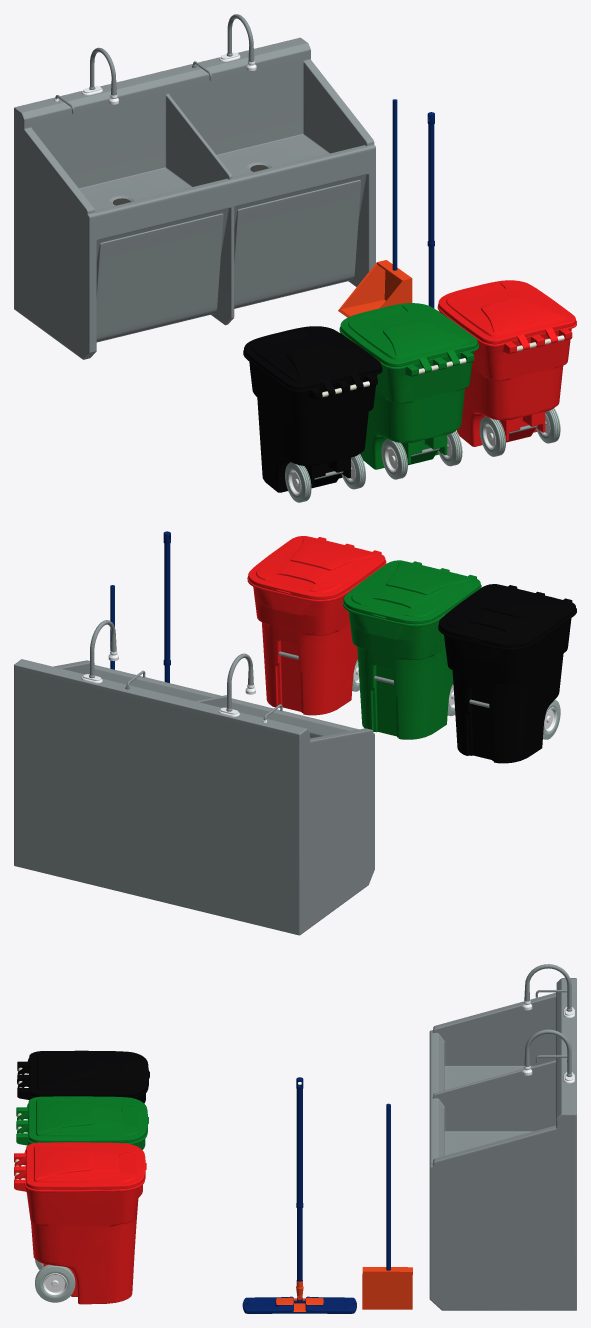
The model's file is AREA DE RESIDUOS .fbx.
The picture shows the model from 3 angles, top to bottom: view 1: azimuth 30°, elevation 25°; view 2: azimuth 150°, elevation 25°; view 3: azimuth 270°, elevation 25°; orthographic projection. The views are drawn at different scales.
Visible parts, largest first — view 1: body_mesh, front_container_001_mesh, front_container_002_mesh, trashcan_mesh.002, trashcan_mesh, trashcan_mesh.001, lid_mesh, lid_mesh.002, lid_mesh.001, imagetostl_mesh1, node_fd49b934_2c13_44a4_b932_a96bf93663f7_mesh0, wheel_001_mesh (+2 smaller); view 2: body_mesh, trashcan_mesh.002, trashcan_mesh, trashcan_mesh.001, lid_mesh.001, lid_mesh, lid_mesh.002, node_fd49b934_2c13_44a4_b932_a96bf93663f7_mesh0; view 3: body_mesh, trashcan_mesh, lid_mesh, lid_mesh.001, lid_mesh.002, node_fd49b934_2c13_44a4_b932_a96bf93663f7_mesh0, imagetostl_mesh1, wheel_002_mesh, sink_pipe_001_mesh, sink_pipe_002_mesh, trashcan_mesh.001, trashcan_mesh.002.
Part boxes in pixels (x1,y1,x2,y2): body_mesh: (14, 37, 375, 359); front_container_001_mesh: (96, 213, 223, 341); front_container_002_mesh: (234, 180, 361, 308); trashcan_mesh.002: (243, 350, 382, 492); trashcan_mesh: (437, 304, 576, 446); trashcan_mesh.001: (339, 327, 478, 469); lid_mesh: (438, 280, 575, 350); lid_mesh.002: (244, 326, 381, 396); lid_mesh.001: (340, 303, 477, 372); imagetostl_mesh1: (338, 99, 412, 317); node_fd49b934_2c13_44a4_b932_a96bf93663f7_mesh0: (427, 112, 434, 308); wheel_001_mesh: (479, 416, 505, 456); body_mesh: (14, 659, 374, 935); trashcan_mesh.002: (438, 585, 576, 763); trashcan_mesh: (247, 537, 386, 715); trashcan_mesh.001: (343, 561, 481, 739); lid_mesh.001: (343, 560, 480, 624); lid_mesh: (248, 536, 385, 599); lid_mesh.002: (439, 584, 575, 647); node_fd49b934_2c13_44a4_b932_a96bf93663f7_mesh0: (163, 531, 170, 682); body_mesh: (429, 978, 576, 1310); trashcan_mesh: (14, 1150, 145, 1304); lid_mesh: (14, 1142, 146, 1189); lid_mesh.001: (17, 1096, 148, 1143); lid_mesh.002: (17, 1050, 149, 1097); node_fd49b934_2c13_44a4_b932_a96bf93663f7_mesh0: (242, 1077, 356, 1313); imagetostl_mesh1: (362, 1103, 412, 1309); wheel_002_mesh: (35, 1264, 75, 1302); sink_pipe_001_mesh: (524, 964, 572, 1011); sink_pipe_002_mesh: (524, 1029, 572, 1076); trashcan_mesh.001: (16, 1104, 147, 1149); trashcan_mesh.002: (17, 1058, 148, 1103).
Size of the model in its own units: 201 by 168 by 345.
Materials: 31 (30 with a texture image).
